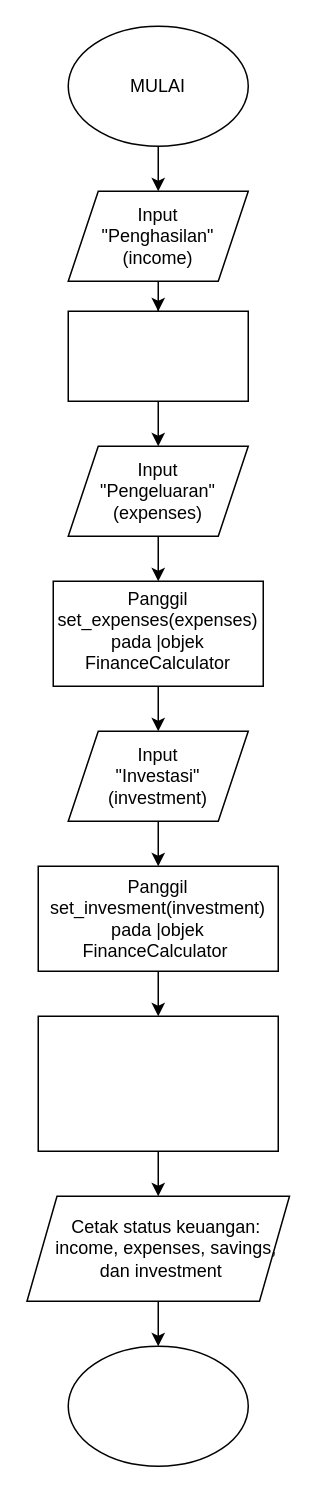
This 315x1493 diagram has some shape labels left out. Here are the shapes that lost their labels. From the top down, the box of each, then its label:
(67, 310, 248, 401): Buat objek FinanceCalculator dengan income sebagai argumen
(37, 1015, 278, 1151): Panggil get_financial_status() untuk mendapatkan status keuangan (dictionary)
(67, 1345, 248, 1466): SELESAI
